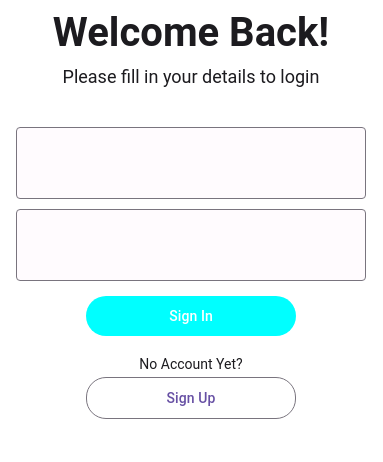
Scenario: shows an error message when password is empty
This screenshot has width=383, height=462.
Type in email but leave password input empty
Type "test@example.com" into the field with placeholder "Email" at (191, 163), box [16,135,366,191]
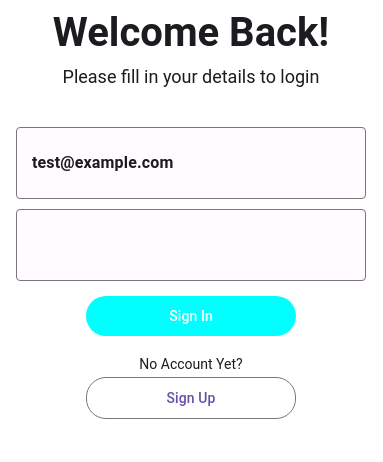
Click the button "Sign In" at (191, 316), box [86,296,296,336]
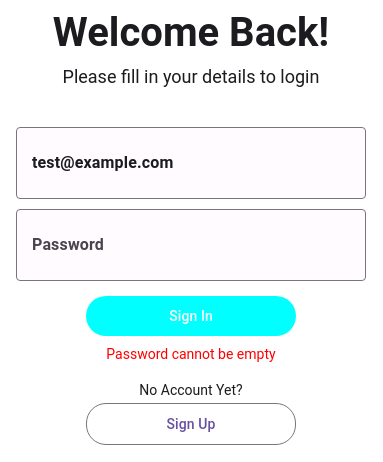
Check: the text "Password cannot be empty" is shown, box [106,346,276,362]
